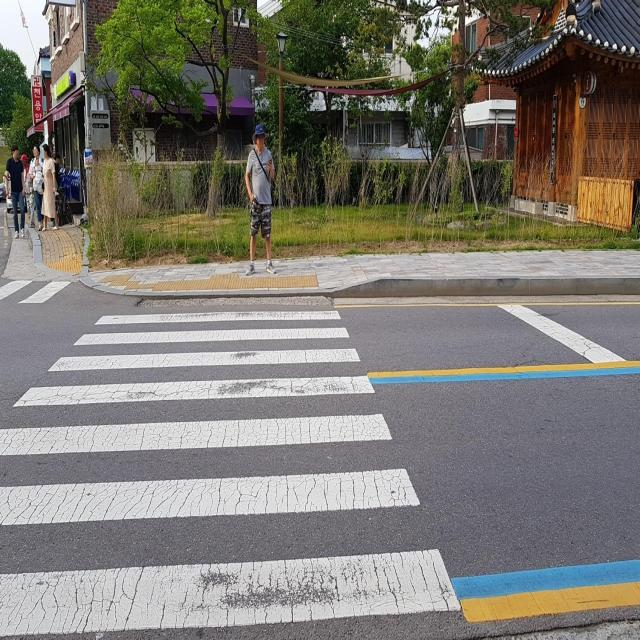횡단보도: (0, 308, 462, 640), (4, 270, 70, 310)
